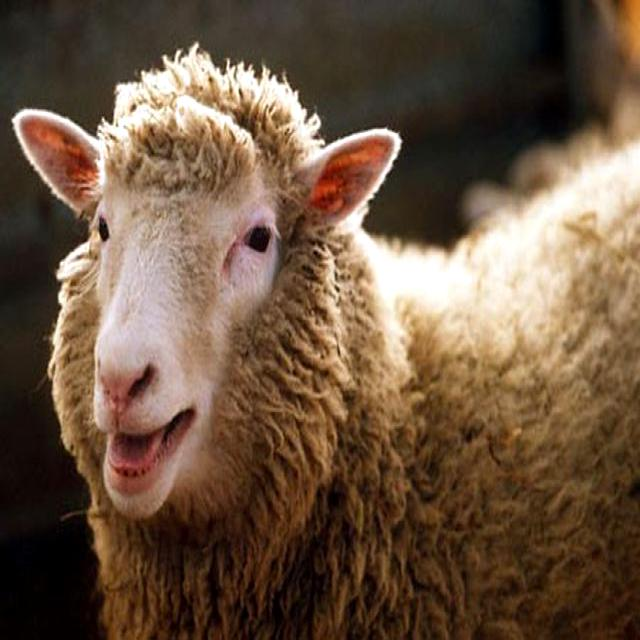sheep: (10, 48, 640, 640)
